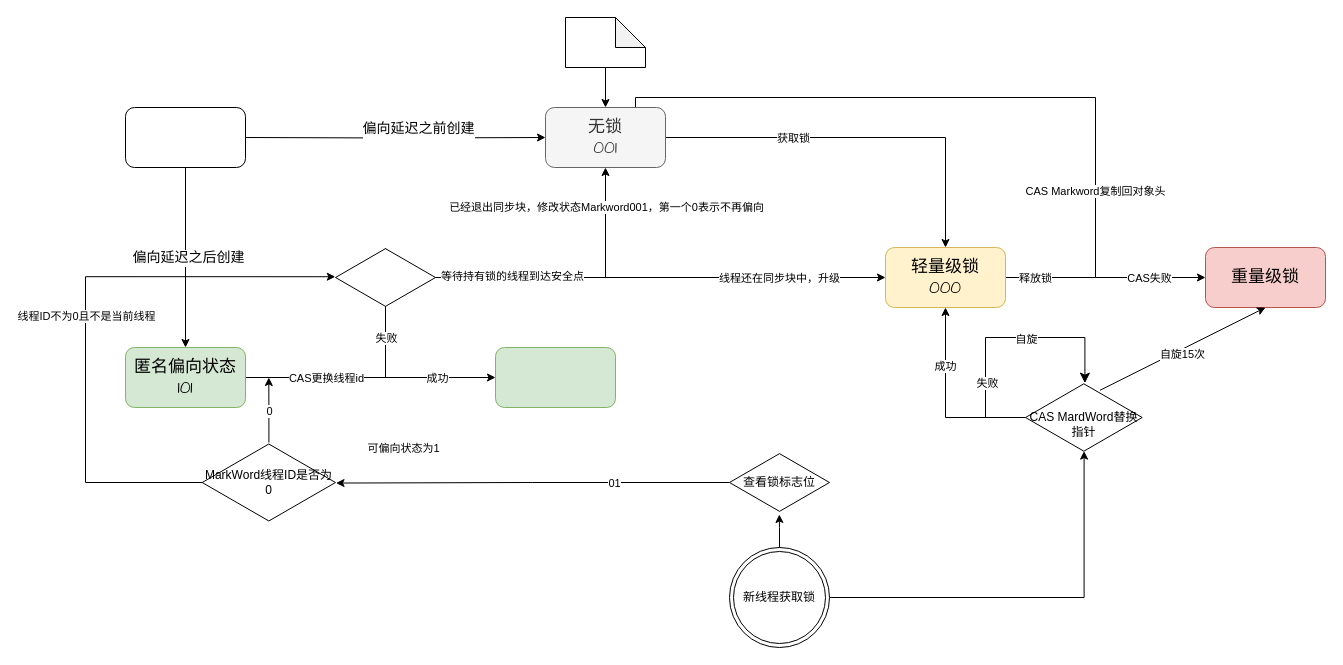
The diagram is 1343 pixels wide and 665 high, and some of its shapes have lost their labels. Each missing label, with the centre of its shape:
001，第一个0表示不可偏向: point 605,42
new Oject: point 185,137
偏向锁 101: point 555,377
偏向锁撤销: point 385,277
